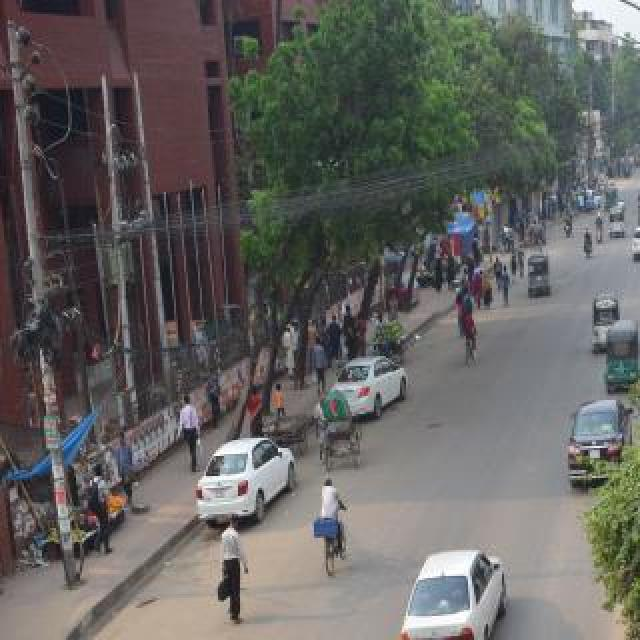car: (190, 410, 312, 570), (384, 518, 518, 640), (309, 313, 413, 453), (543, 371, 637, 493), (569, 181, 601, 213), (630, 220, 640, 272)
motorbike: (578, 217, 602, 265), (557, 204, 579, 240), (592, 207, 610, 245), (626, 202, 640, 230), (628, 186, 640, 208), (636, 170, 640, 192)
